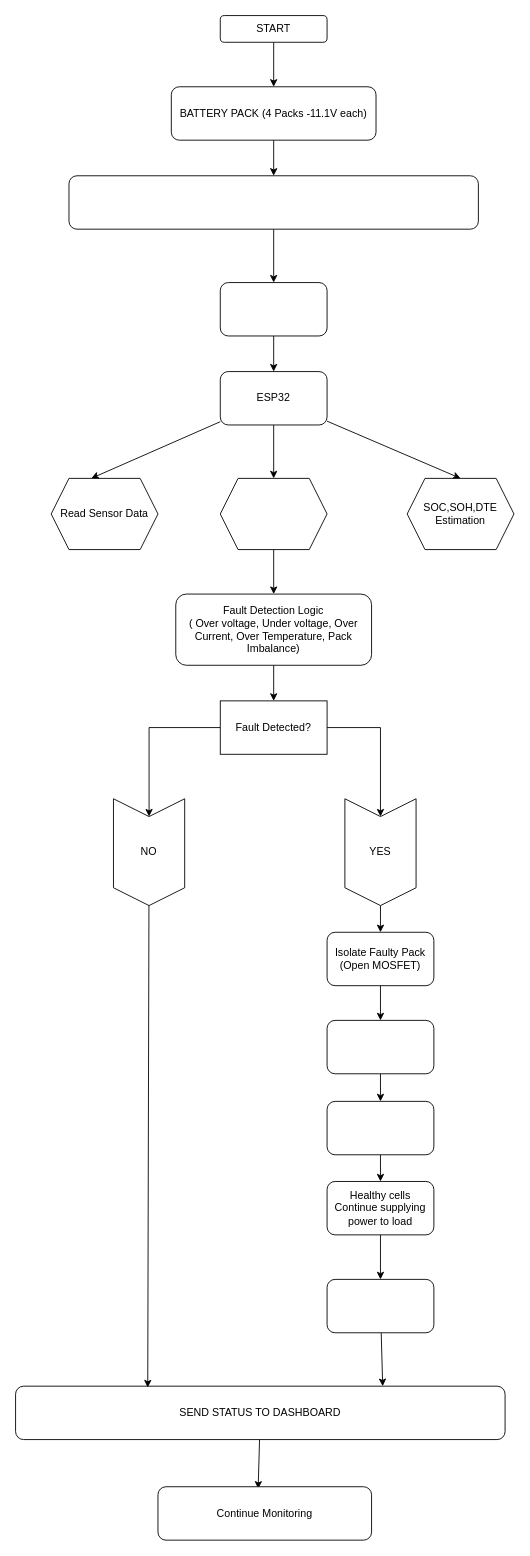
Image size: 530x1556. Some labels were removed from this diagram. The box of each missing label's shape, as (x1, y1, x2, y2) in pixels:
Activate Bypass path (MOSFET Controled Switching): (326, 1100, 434, 1155)
ADS115 ADC: (219, 282, 327, 336)
EKF Algorithm, Noise Filtering: (219, 477, 327, 550)
Recalculate Battery Apparatus(New SOC/SOH Estimation): (326, 1278, 434, 1333)
Store Fault Information: (326, 1019, 434, 1074)
Voltage Divider + INA226 + MCP9808 (Voltage , Current , Temperature Monitoring): (68, 175, 478, 229)
